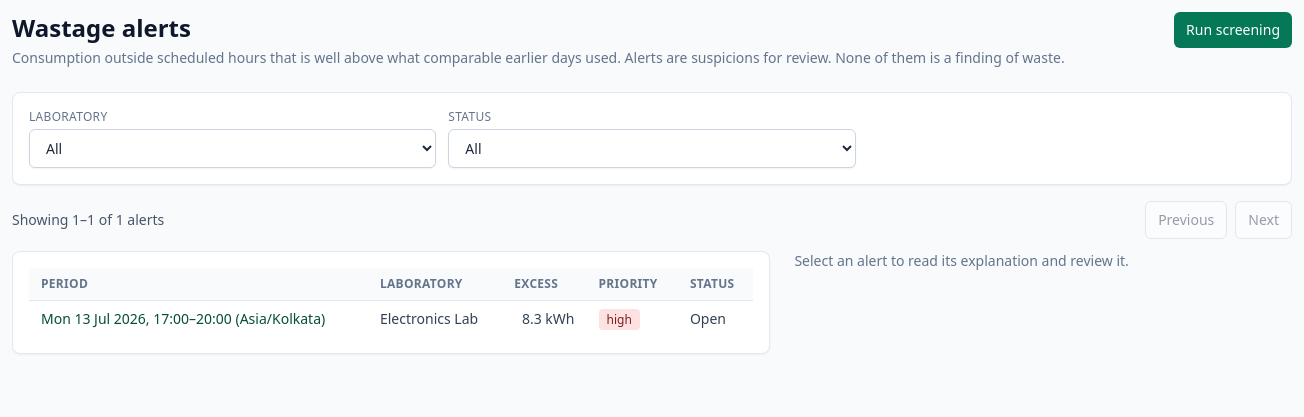
Test: Alerts page › reports a screening run with what was skipped and why
The image size is (1304, 417).
What coordinates should you click on to do the following:
click the button "Run screening"
I would click on:
 (1233, 30)
Its box is [1174,12,1292,48].
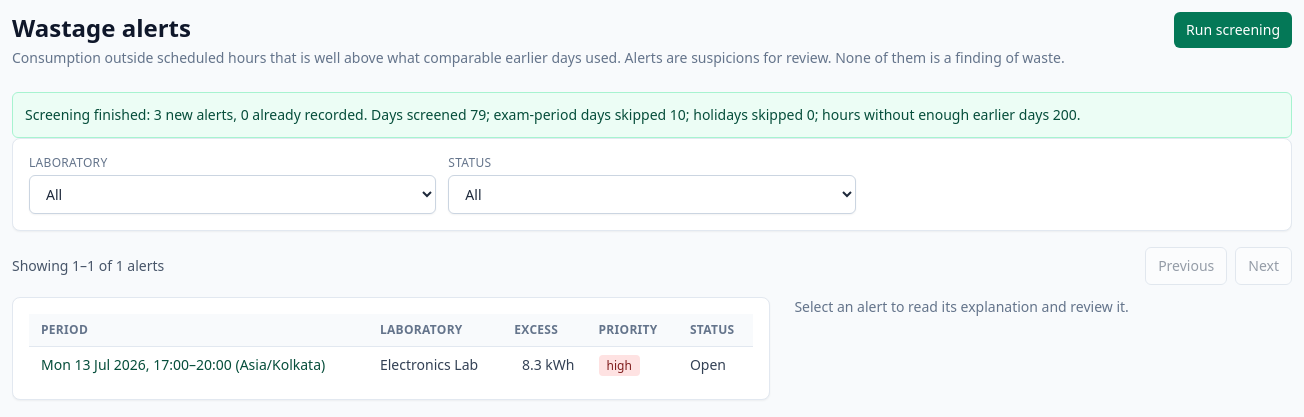
Result: the message shows "3 new alerts, 0 already recorded" at [12,92,1292,138]
Result: the message shows "exam-period days skipped 10" at [12,92,1292,138]
